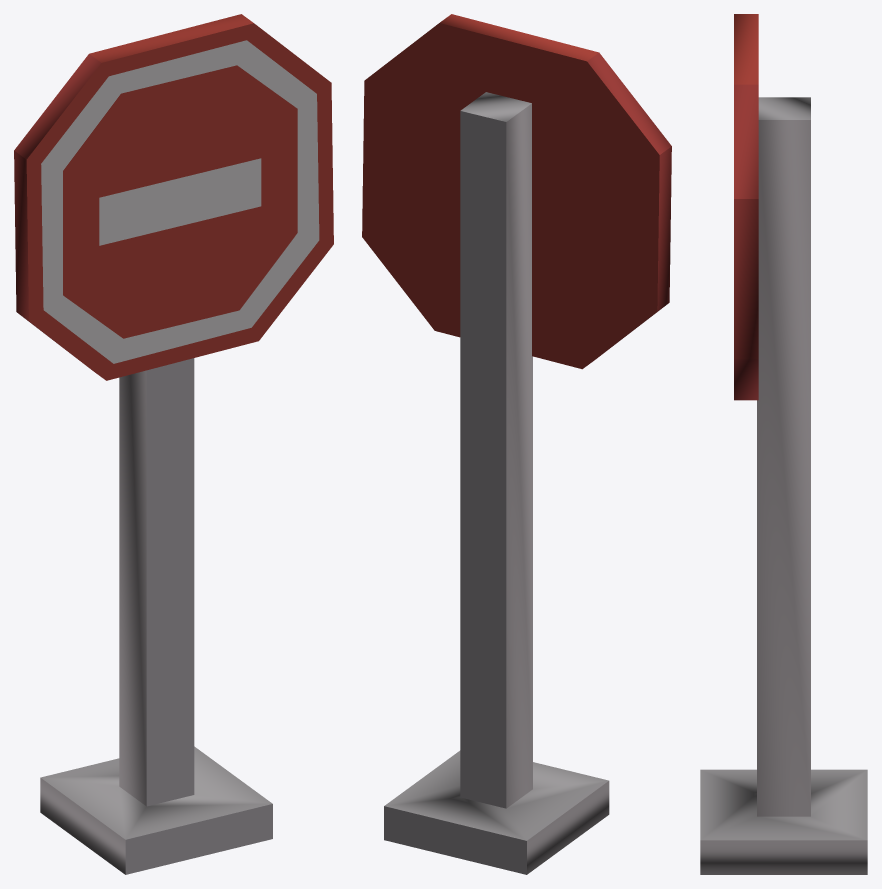
The model's file is apoc_prop_9.glb.
3 views of the same model, side by side, from view 1: azimuth 30°, elevation 25°; view 2: azimuth 150°, elevation 25°; view 3: azimuth 270°, elevation 25° (orthographic). The views are drawn at different scales.
Parts seen in each view (by area): view 1: prop_009; view 2: prop_009; view 3: prop_009.
Part boxes in pixels (x1,y1,x2,y2): prop_009: (14,14,333,874); prop_009: (362,14,671,874); prop_009: (700,14,867,874).
Size of the model in its own units: 0.1442 by 0.3603 by 0.0691.
1 material, 1 textured.
